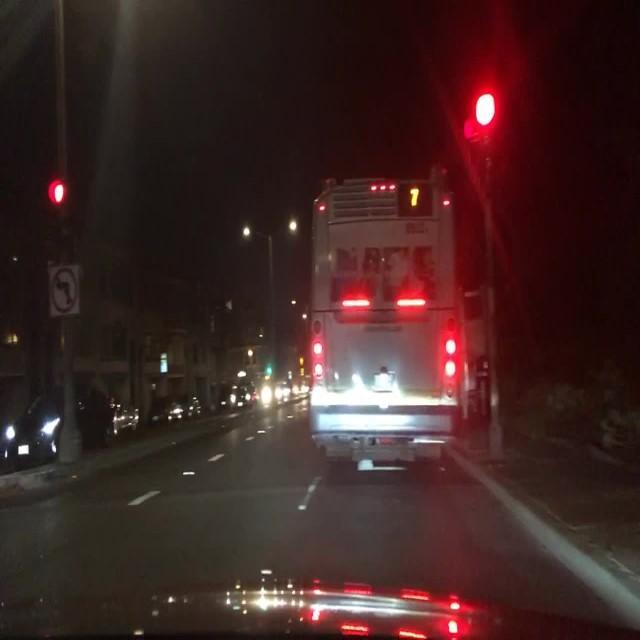normal: (298, 167, 493, 473)
